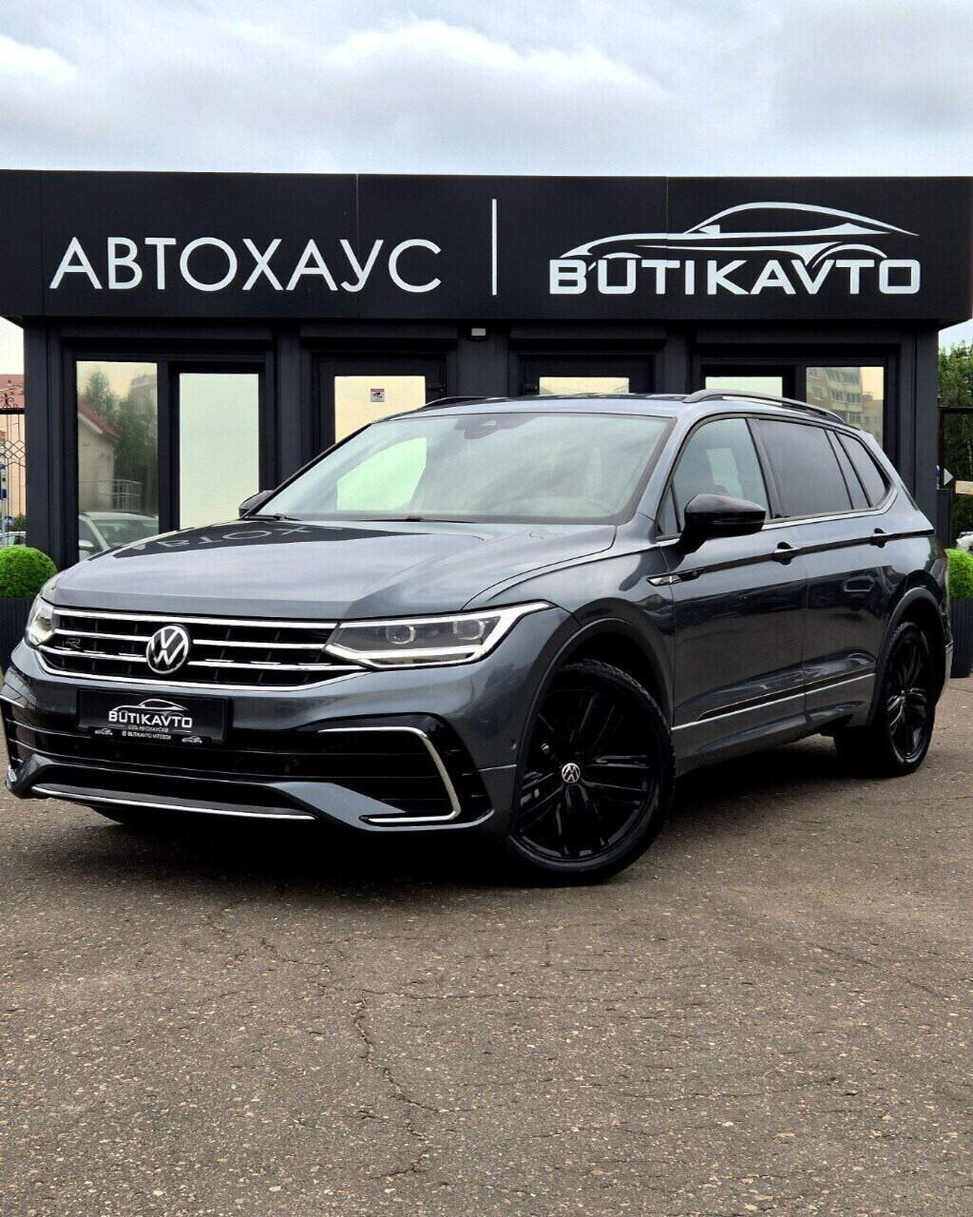Tiguan_2020-2024: (0, 388, 956, 885)
